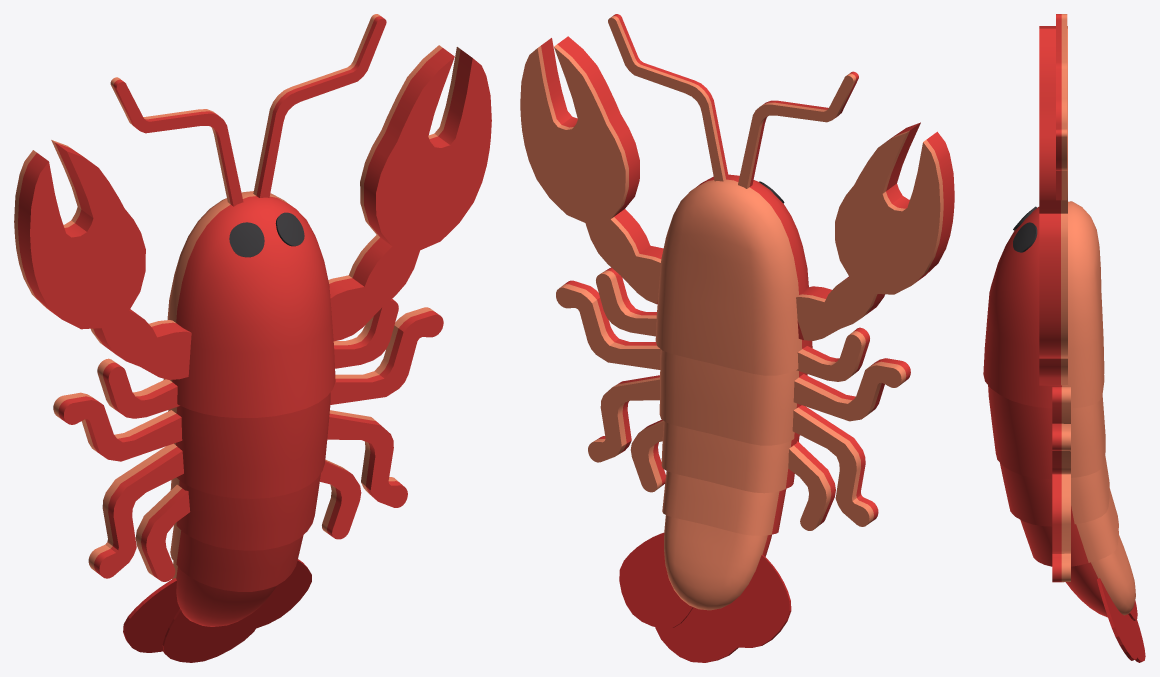
File: Lobster.gltf
3 views of the same model, side by side, from view 1: azimuth 30°, elevation 25°; view 2: azimuth 150°, elevation 25°; view 3: azimuth 270°, elevation 25° (orthographic). The views are drawn at different scales.
Visible parts, largest first — view 1: Plane.183, Cube.183, Cube.184, Cube.185, Plane.184, Circle.2100; view 2: Plane.183, Cube.184, Cube.183, Cube.185, Plane.184; view 3: Cube.184, Cube.185, Plane.183, Cube.183, Plane.184, Circle.2100.
Part boxes in pixels (left/top/right/bottom): Plane.183: left=14, top=45, right=491, bottom=379; Cube.183: left=53, top=14, right=443, bottom=581; Cube.184: left=163, top=191, right=335, bottom=626; Cube.185: left=168, top=392, right=330, bottom=591; Plane.184: left=123, top=559, right=311, bottom=662; Circle.2100: left=229, top=212, right=304, bottom=257; Plane.183: left=520, top=36, right=954, bottom=340; Cube.184: left=655, top=174, right=812, bottom=610; Cube.183: left=556, top=14, right=910, bottom=530; Cube.185: left=659, top=349, right=807, bottom=535; Plane.184: left=619, top=532, right=791, bottom=662; Cube.184: left=983, top=201, right=1135, bottom=617; Cube.185: left=988, top=385, right=1118, bottom=566; Plane.183: left=1039, top=26, right=1067, bottom=385; Cube.183: left=1052, top=14, right=1070, bottom=582; Plane.184: left=1097, top=578, right=1145, bottom=662; Circle.2100: left=1013, top=206, right=1037, bottom=252.
Bounding box in the file's own units: 1.7 × 2.27 × 0.5706.
2 materials, 1 textured.
